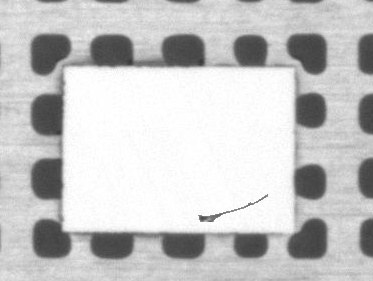DIE_INK: (197, 193, 268, 222)
